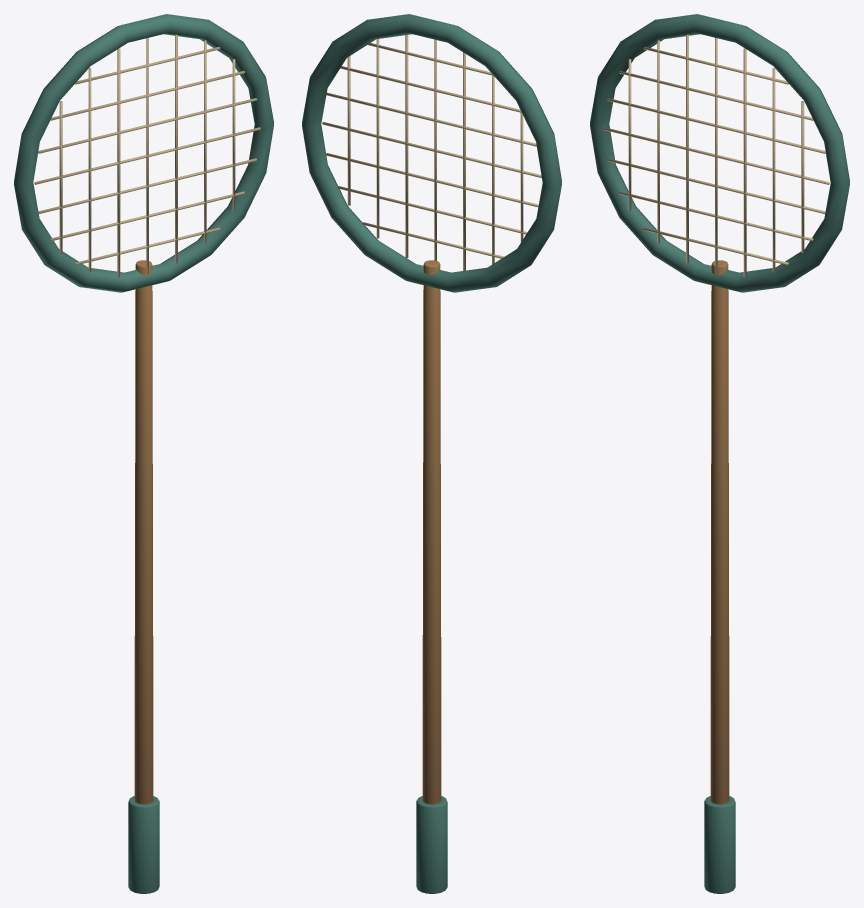
The model's file is tool_bugnet.glb.
The picture shows the model from 3 angles, left to right: view 1: azimuth 30°, elevation 25°; view 2: azimuth 150°, elevation 25°; view 3: azimuth 330°, elevation 25°; orthographic projection.
Bounding box in the file's own units: 0.496 × 1.58 × 0.0507.
